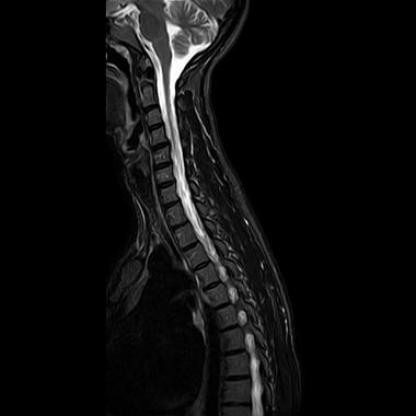Disc Bulgerotation: (152, 141, 169, 155)
